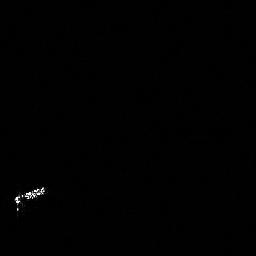ship: (14, 186, 45, 205)
